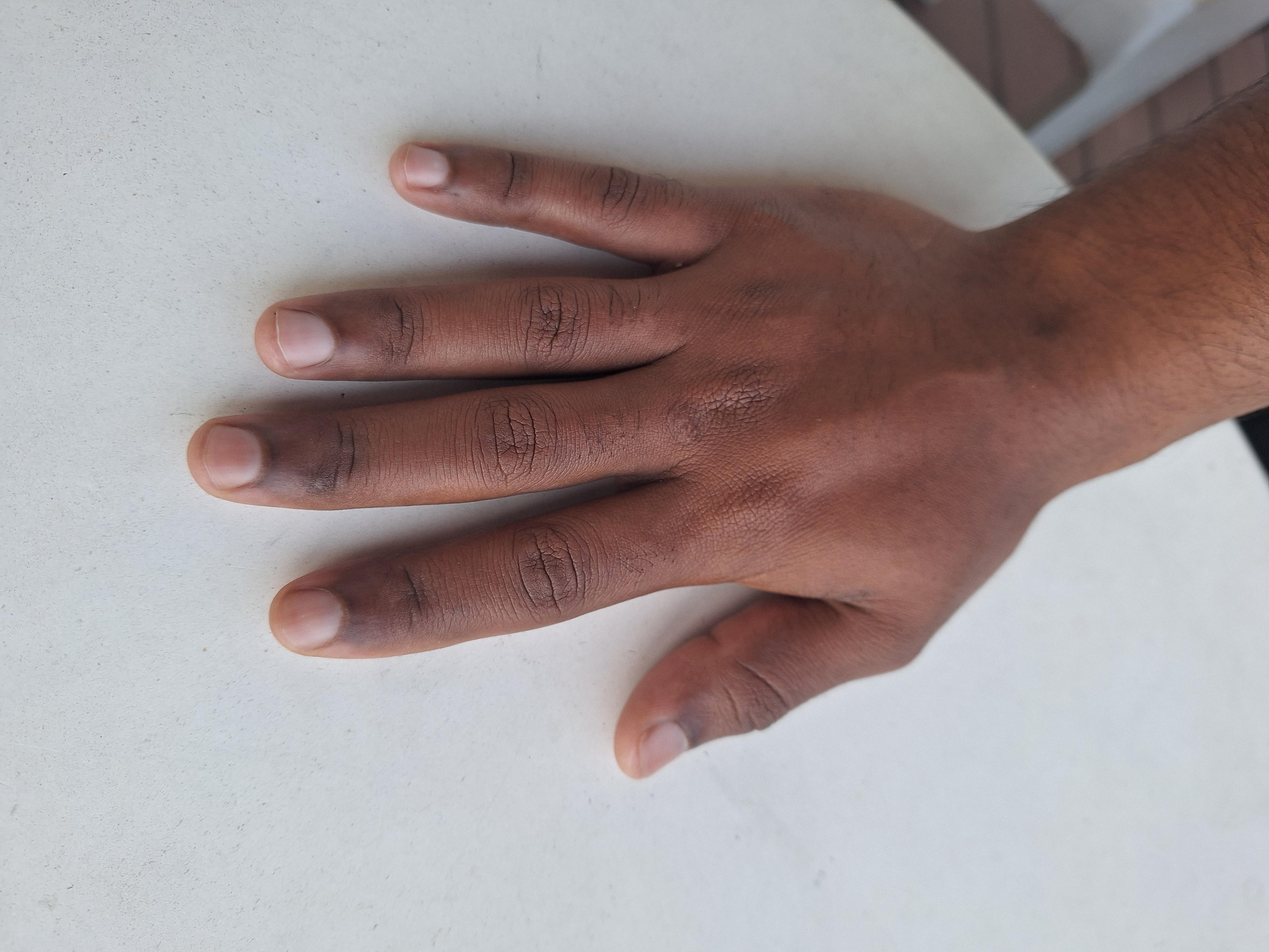Fingernail: (277, 588, 341, 650), (204, 426, 262, 490), (277, 309, 335, 369), (639, 720, 689, 778), (405, 144, 449, 188)
